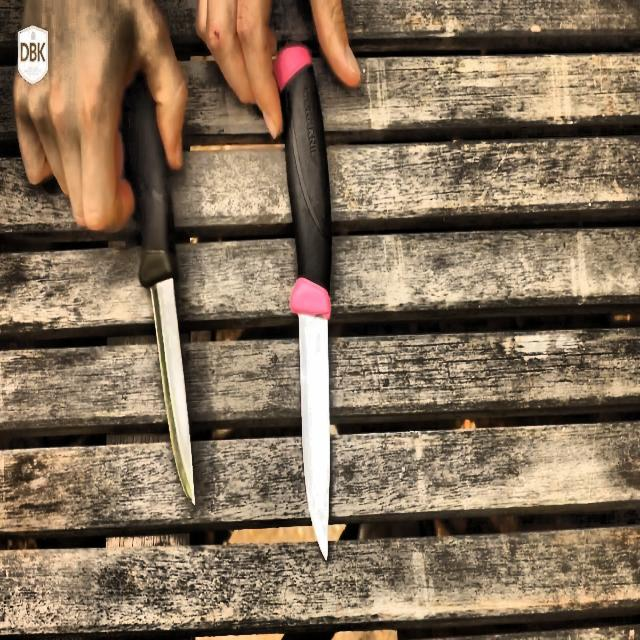knife: (120, 76, 196, 503), (277, 46, 332, 558)
